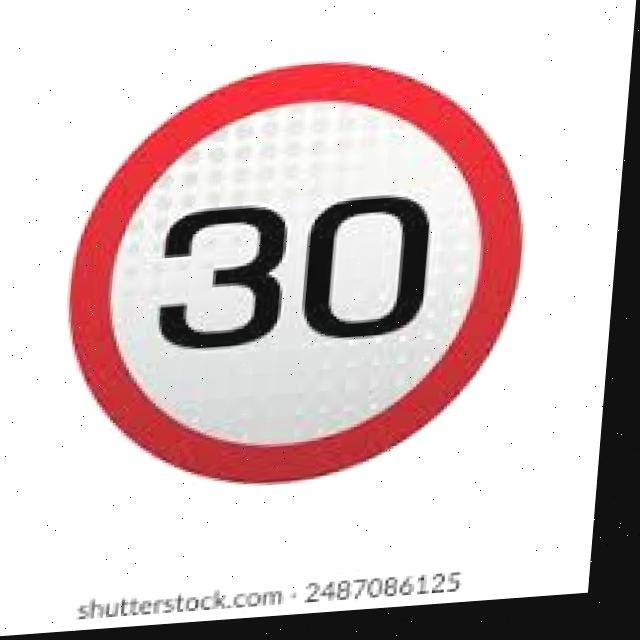Speed limit 30: (57, 49, 547, 504)
